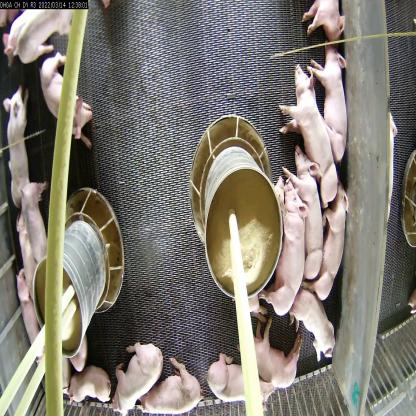Pig: (271, 51, 342, 207), (234, 300, 308, 395), (286, 142, 330, 290), (266, 172, 306, 324), (35, 53, 100, 145), (203, 332, 271, 405), (309, 180, 348, 303), (318, 44, 353, 160), (140, 356, 206, 416), (3, 14, 78, 66), (292, 294, 342, 370), (0, 88, 31, 206), (112, 342, 164, 410), (17, 173, 49, 269), (298, 0, 344, 56), (20, 274, 45, 354), (18, 224, 44, 289), (68, 371, 113, 405)
